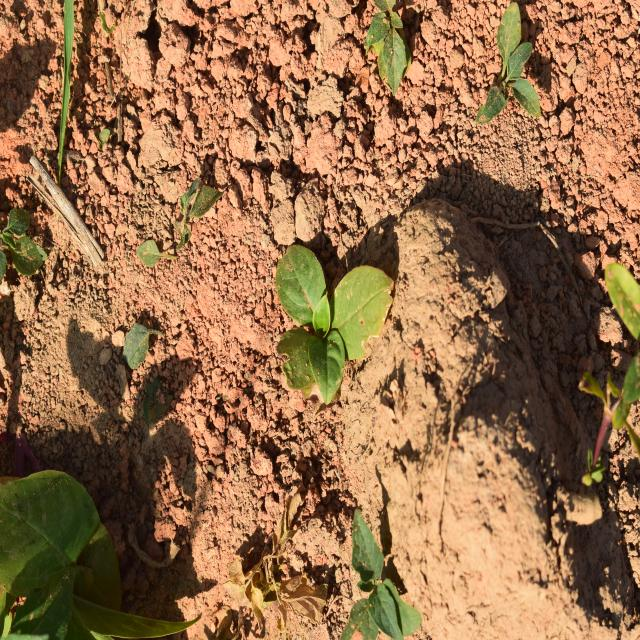Black_nightshade: (472, 0, 538, 142), (344, 513, 409, 635)
